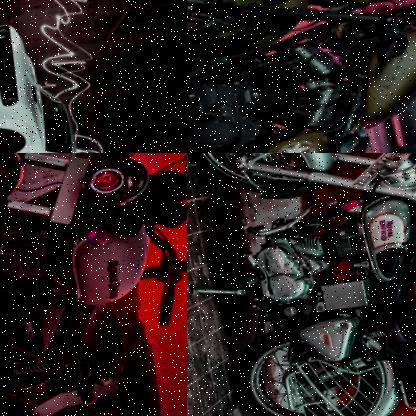bike: (187, 153, 416, 416), (0, 153, 187, 416), (187, 0, 416, 153)
car: (0, 11, 86, 153)
